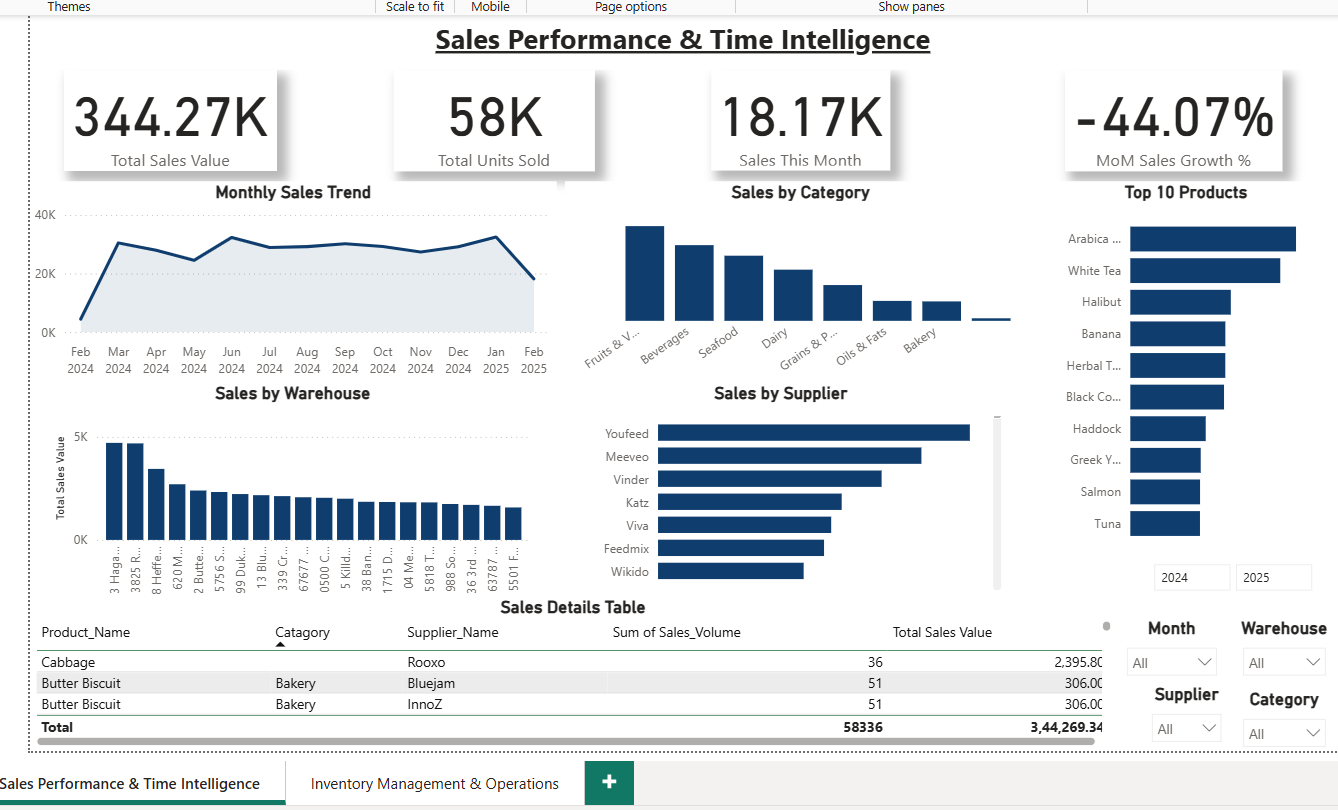

The dashboard page shown, as its layout file describes it:
{"tool":"powerbi","page":{"name":"Sales Performance & Time Intelligence","canvas":[1280,720],"ordinal":0},"visuals":[{"type":"card","title":"Total Sales Value","fields":{"Values":["Grocery_Inventory_and_Sales_Dataset.Total Sales Value"]},"box":[33,53.8,209.1,99],"z":0},{"type":"card","title":"Total Units Sold","fields":{"Values":["Grocery_Inventory_and_Sales_Dataset.Total Units Sold"]},"box":[355.8,53.8,196.9,99],"z":1000},{"type":"card","title":"Sales This Month","fields":{"Values":["Date Table.Sales This Month"]},"box":[666.2,53.8,175,98.8],"z":2000},{"type":"card","title":"MoM Sales Growth %","fields":{"Values":["Date Table.MoM Sales Growth %"]},"box":[1012.5,53.8,212.8,99],"z":3000},{"type":"areaChart","title":"Monthly Sales Trend","fields":{"Category":["Date Table.Month Year"],"Y":["Grocery_Inventory_and_Sales_Dataset.Total Sales Value"]},"box":[0,162.5,515,198.8],"z":4000},{"type":"columnChart","title":" Sales by Category","fields":{"Category":["Grocery_Inventory_and_Sales_Dataset.Catagory"],"Y":["Grocery_Inventory_and_Sales_Dataset.Total Sales Value"]},"box":[523.8,162.5,461.2,198.8],"z":5000},{"type":"columnChart","title":"Sales by Warehouse","fields":{"Category":["Grocery_Inventory_and_Sales_Dataset.Warehouse_Location"],"Y":["Grocery_Inventory_and_Sales_Dataset.Total Sales Value"]},"box":[20,360,475,245],"z":6000},{"type":"barChart","title":"Top 10 Products","fields":{"Category":["Grocery_Inventory_and_Sales_Dataset.Product_Name"],"Y":["Grocery_Inventory_and_Sales_Dataset.Sales by Product"]},"box":[996.2,162.5,268.8,365],"z":7000},{"type":"tableEx","title":" Sales Details Table","fields":{"Values":["Grocery_Inventory_and_Sales_Dataset.Product_Name","Grocery_Inventory_and_Sales_Dataset.Catagory","Grocery_Inventory_and_Sales_Dataset.Supplier_Name","Sum(Grocery_Inventory_and_Sales_Dataset.Sales_Volume)","Grocery_Inventory_and_Sales_Dataset.Total Sales Value"]},"box":[0,568.8,1062.5,151.2],"z":8000},{"type":"barChart","title":"Sales by Supplier","fields":{"Category":["Grocery_Inventory_and_Sales_Dataset.Supplier_Name"],"Y":["Grocery_Inventory_and_Sales_Dataset.Sales by Supplier"]},"box":[513.2,359.5,441.9,208.6],"z":9000},{"type":"slicer","title":"Warehouse","fields":{"Values":["Grocery_Inventory_and_Sales_Dataset.Warehouse_Location"]},"box":[1176.2,590,101.2,63.8],"z":10000},{"type":"slicer","title":"Month","fields":{"Values":["Date Table.Month"]},"box":[1062.5,590,108.8,57.5],"z":11000},{"type":"slicer","title":"Category","fields":{"Values":["Grocery_Inventory_and_Sales_Dataset.Catagory"]},"box":[1176.2,658.8,101.2,61.2],"z":12000},{"type":"slicer","title":"Supplier","fields":{"Values":["Grocery_Inventory_and_Sales_Dataset.Supplier_Name"]},"box":[1087.5,653.8,88.8,63.8],"z":13000},{"type":"slicer","title":"Year","fields":{"Values":["Date Table.Year"]},"box":[1087.1,527,177.3,52.6],"z":14000},{"type":"textbox","box":[0,0,1277.5,53.8],"z":15000}]}

Visuals, with their boxes on the page's 1280x720 design canvas (x1, y1, x2, y2). These are canvas units, not pixel positions in the 1338x810 screenshot, which may show the page scaled, cropped or inside an application window:
"Total Sales Value" card: {"x1": 33, "y1": 54, "x2": 242, "y2": 153}
"Total Units Sold" card: {"x1": 356, "y1": 54, "x2": 553, "y2": 153}
"Sales This Month" card: {"x1": 666, "y1": 54, "x2": 841, "y2": 153}
"MoM Sales Growth %" card: {"x1": 1012, "y1": 54, "x2": 1225, "y2": 153}
"Monthly Sales Trend" areaChart: {"x1": 0, "y1": 162, "x2": 515, "y2": 361}
" Sales by Category" columnChart: {"x1": 524, "y1": 162, "x2": 985, "y2": 361}
"Sales by Warehouse" columnChart: {"x1": 20, "y1": 360, "x2": 495, "y2": 605}
"Top 10 Products" barChart: {"x1": 996, "y1": 162, "x2": 1265, "y2": 528}
" Sales Details Table" tableEx: {"x1": 0, "y1": 569, "x2": 1062, "y2": 720}
"Sales by Supplier" barChart: {"x1": 513, "y1": 360, "x2": 955, "y2": 568}
"Warehouse" slicer: {"x1": 1176, "y1": 590, "x2": 1277, "y2": 654}
"Month" slicer: {"x1": 1062, "y1": 590, "x2": 1171, "y2": 648}
"Category" slicer: {"x1": 1176, "y1": 659, "x2": 1277, "y2": 720}
"Supplier" slicer: {"x1": 1088, "y1": 654, "x2": 1176, "y2": 718}
"Year" slicer: {"x1": 1087, "y1": 527, "x2": 1264, "y2": 580}
textbox: {"x1": 0, "y1": 0, "x2": 1278, "y2": 54}
